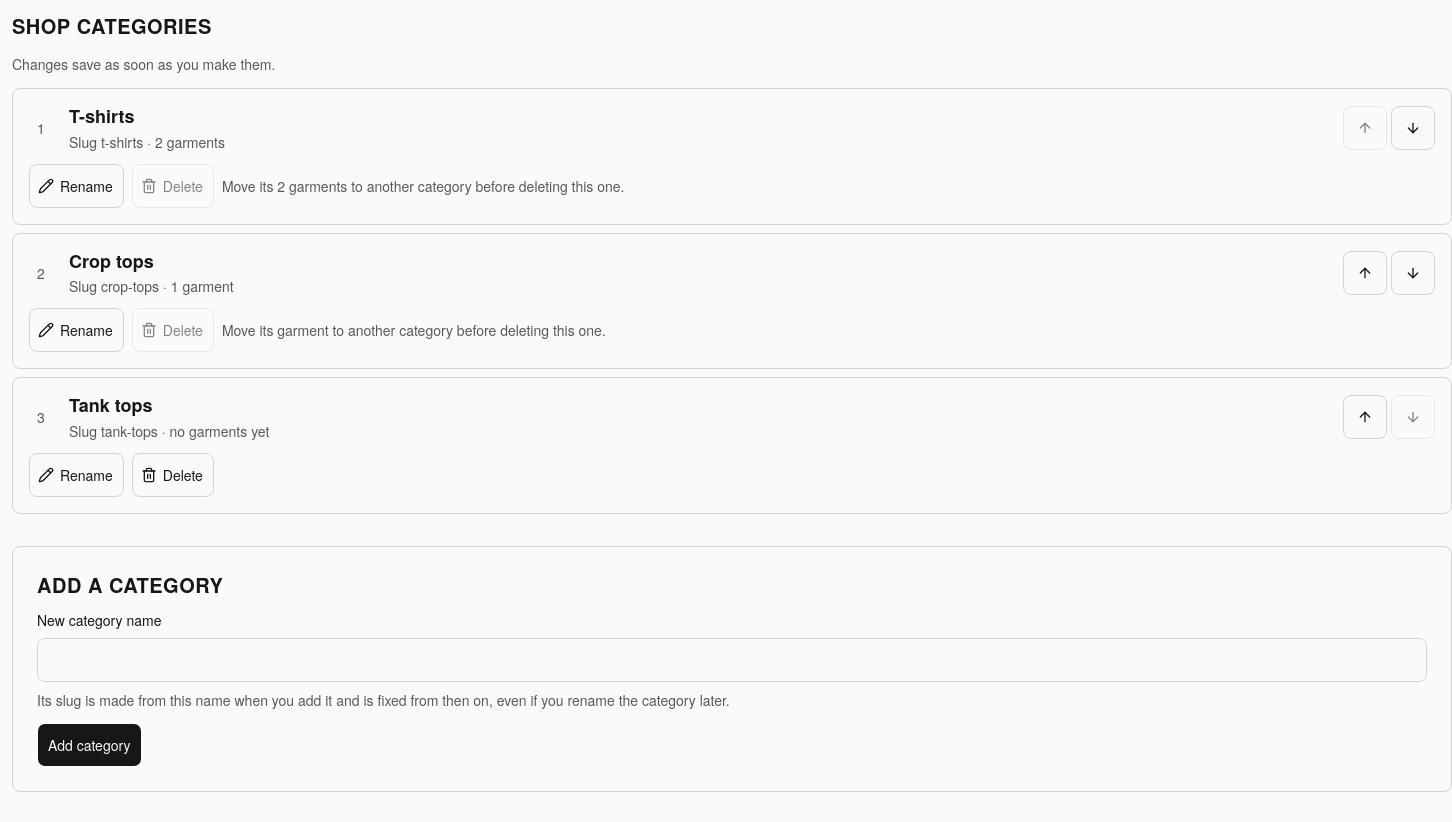
it: CategoryManager › renaming › refuses an empty name on the page
Click the button named "Rename Tank tops" at (76,474), box x1=29 y1=452 x2=124 y2=496
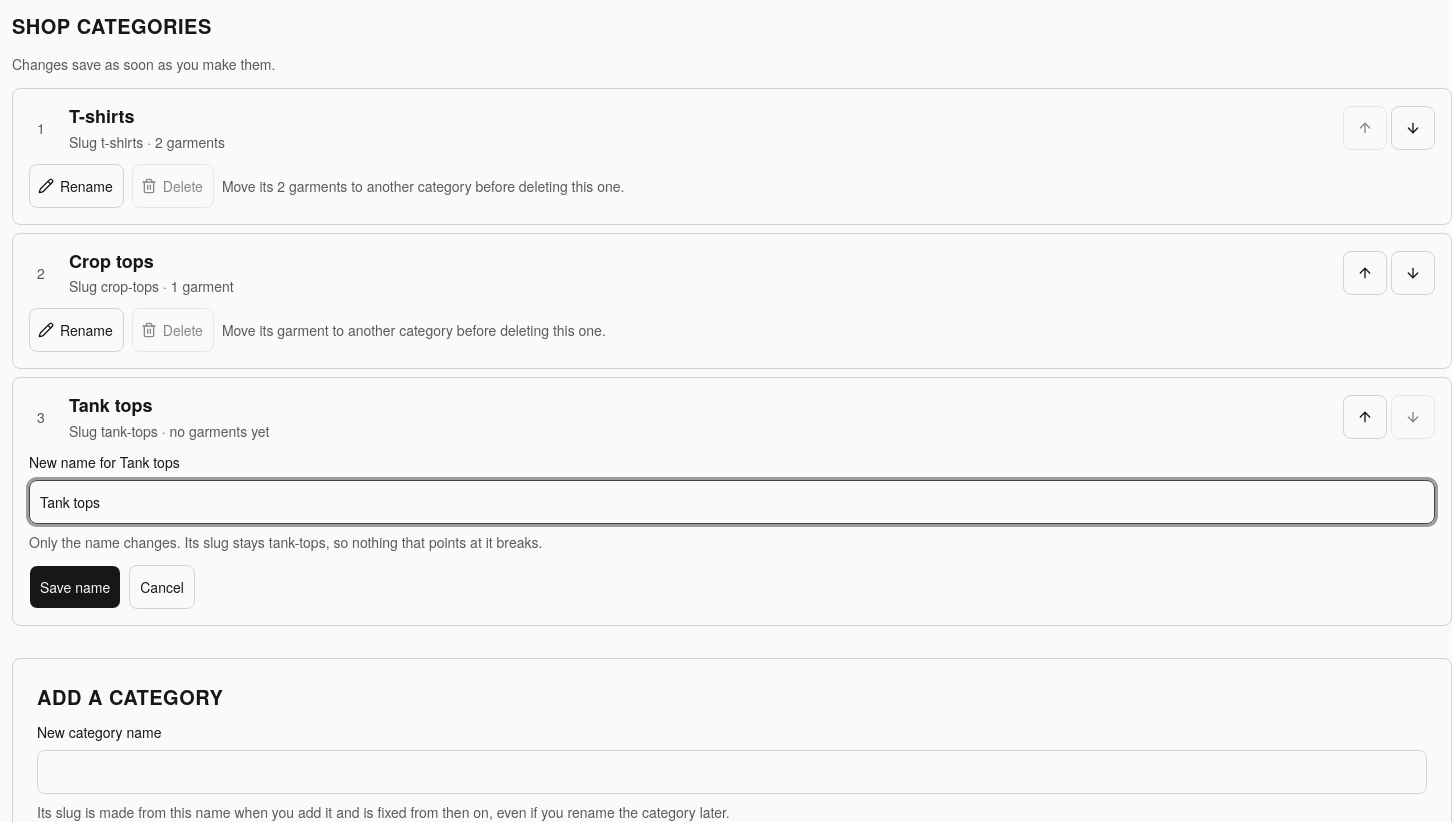
Clear the field labelled "New name for Tank tops" at (732,502), box x1=29 y1=480 x2=1435 y2=524
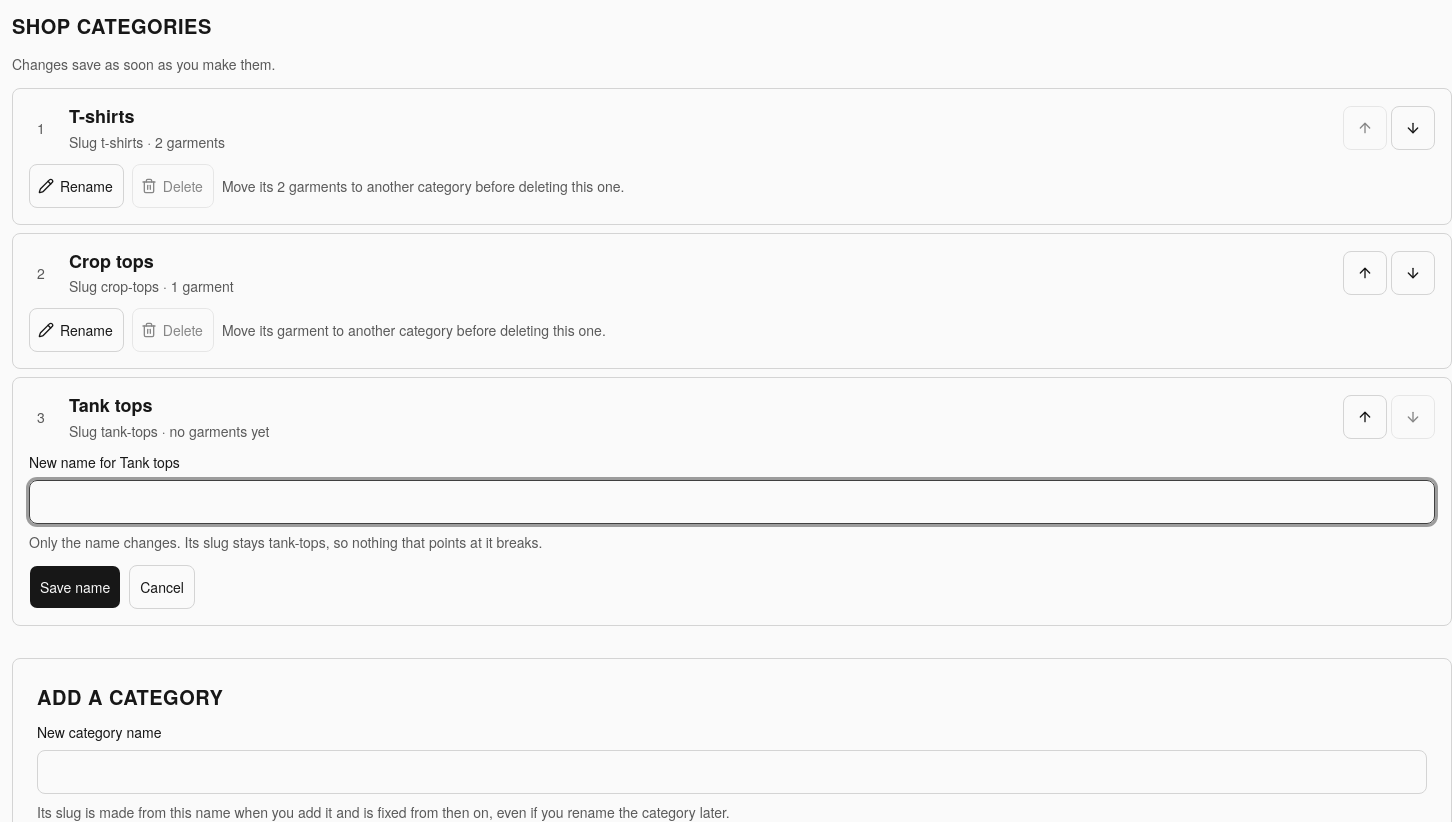
Click the button named "Save name for Tank tops" at (75,587), box x1=29 y1=565 x2=121 y2=609
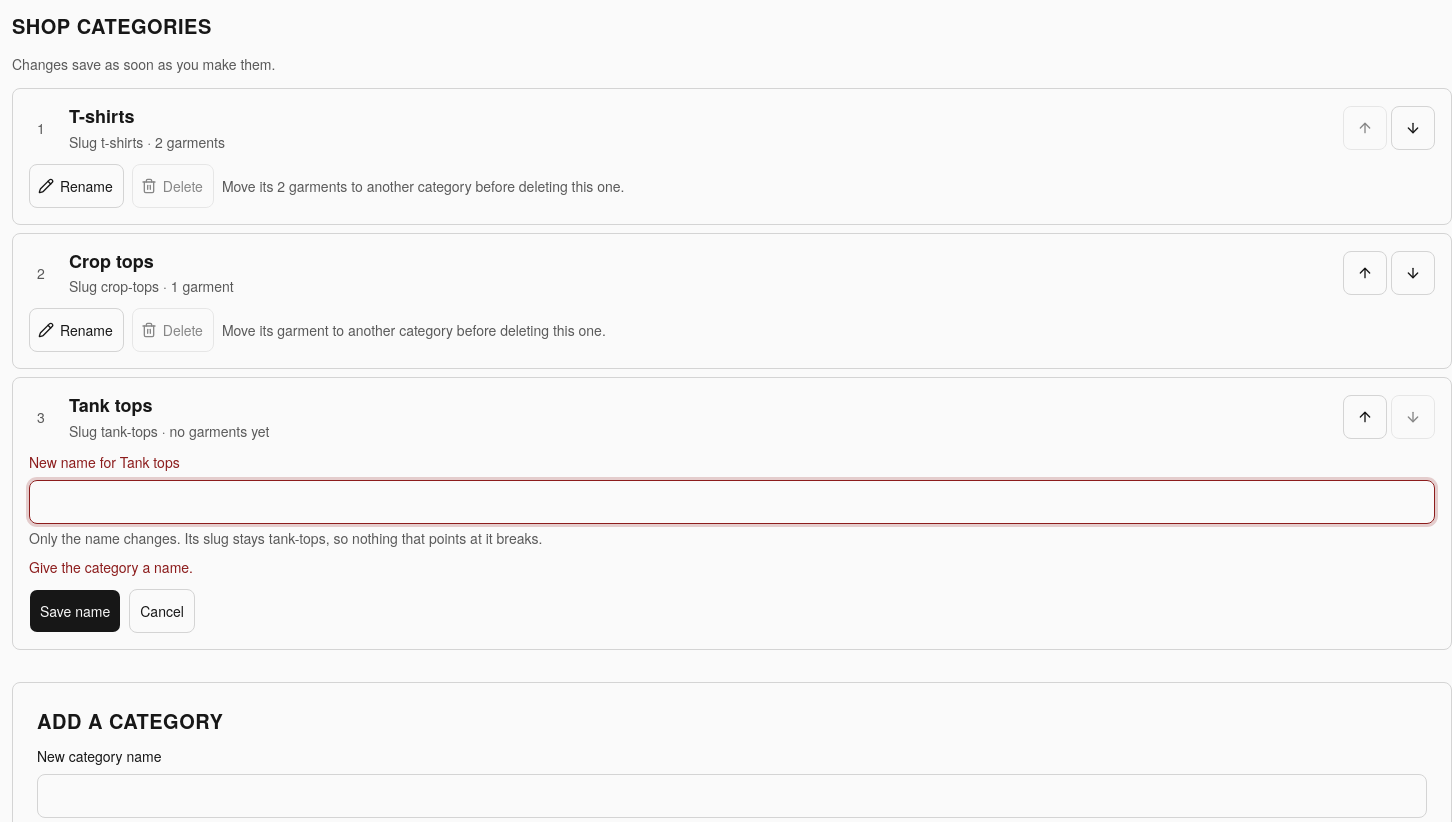
Result: the message reads "Give the category a name." at x1=29 y1=557 x2=193 y2=577
